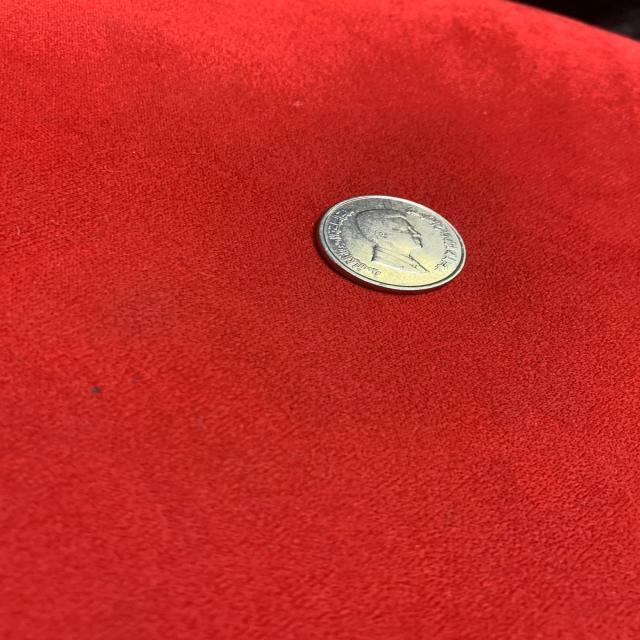10-coins: (314, 194, 466, 296)
